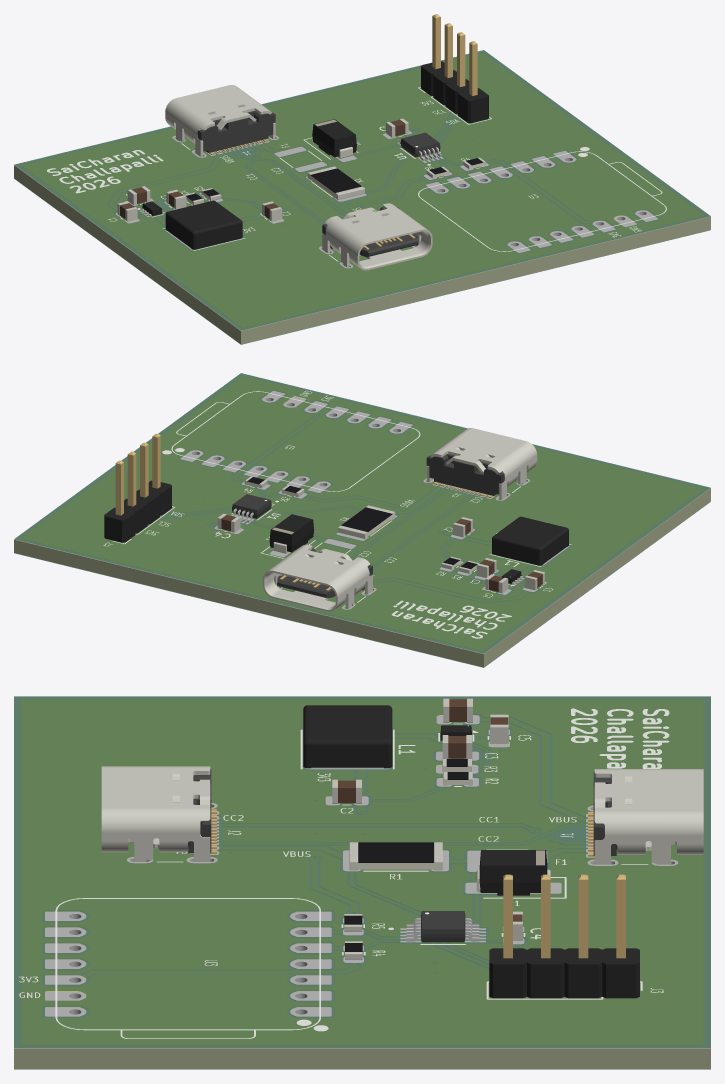
Rendered from pcb.glb.
3 views of the same model, one above another, from view 1: azimuth 30°, elevation 25°; view 2: azimuth 150°, elevation 25°; view 3: azimuth 270°, elevation 25° (orthographic). The views are drawn at different scales.
Parts seen in each view (by area): view 1: =>[0:1:1:38], =>[0:1:1:34], =>[0:1:1:40], =>[0:1:1:5] (×2), =>[0:1:1:31], =>[0:1:1:35], =>[0:1:1:37], =>[0:1:1:13], =>[0:1:1:9], =>[0:1:1:33], =>[0:1:1:39], Body; view 2: =>[0:1:1:38], =>[0:1:1:34], =>[0:1:1:40], =>[0:1:1:5] (×2), =>[0:1:1:31], =>[0:1:1:35], =>[0:1:1:37], =>[0:1:1:13], =>[0:1:1:9], =>[0:1:1:33], =>[0:1:1:39], Body; view 3: =>[0:1:1:38], =>[0:1:1:34], =>[0:1:1:40], =>[0:1:1:5] (×2), =>[0:1:1:31], =>[0:1:1:35], =>[0:1:1:37], =>[0:1:1:13], =>[0:1:1:9], =>[0:1:1:33], =>[0:1:1:7] (×3), Body (+1 smaller).
Boxes of the visible parts, x1=… form: =>[0:1:1:38]: x1=14, y1=50, x2=710, y2=330; =>[0:1:1:34]: x1=22, y1=53, x2=703, y2=327; =>[0:1:1:40]: x1=14, y1=51, x2=710, y2=344; =>[0:1:1:5] (×2): x1=165, y1=85, x2=432, y2=270; =>[0:1:1:31]: x1=421, y1=14, x2=488, y2=123; =>[0:1:1:35]: x1=116, y1=130, x2=657, y2=268; =>[0:1:1:37]: x1=47, y1=87, x2=666, y2=261; =>[0:1:1:13]: x1=165, y1=200, x2=242, y2=249; =>[0:1:1:9]: x1=312, y1=119, x2=356, y2=158; =>[0:1:1:33]: x1=307, y1=166, x2=364, y2=199; =>[0:1:1:39]: x1=14, y1=178, x2=710, y2=344; Body: x1=400, y1=132, x2=440, y2=157; =>[0:1:1:38]: x1=14, y1=373, x2=710, y2=653; =>[0:1:1:34]: x1=21, y1=376, x2=702, y2=650; =>[0:1:1:40]: x1=14, y1=374, x2=710, y2=667; =>[0:1:1:5] (×2): x1=262, y1=428, x2=537, y2=611; =>[0:1:1:31]: x1=104, y1=433, x2=171, y2=542; =>[0:1:1:35]: x1=180, y1=391, x2=569, y2=609; =>[0:1:1:37]: x1=103, y1=390, x2=571, y2=638; =>[0:1:1:13]: x1=492, y1=516, x2=568, y2=565; =>[0:1:1:9]: x1=269, y1=514, x2=314, y2=553; =>[0:1:1:33]: x1=338, y1=505, x2=395, y2=538; =>[0:1:1:39]: x1=14, y1=501, x2=710, y2=667; Body: x1=232, y1=494, x2=271, y2=518; =>[0:1:1:38]: x1=14, y1=696, x2=710, y2=1048; =>[0:1:1:34]: x1=22, y1=700, x2=702, y2=1044; =>[0:1:1:40]: x1=14, y1=697, x2=710, y2=1068; =>[0:1:1:5] (×2): x1=101, y1=766, x2=703, y2=864; =>[0:1:1:31]: x1=489, y1=874, x2=639, y2=998; =>[0:1:1:35]: x1=45, y1=715, x2=678, y2=1016; =>[0:1:1:37]: x1=19, y1=708, x2=669, y2=1038; =>[0:1:1:13]: x1=303, y1=705, x2=392, y2=768; =>[0:1:1:9]: x1=476, y1=850, x2=550, y2=895; =>[0:1:1:33]: x1=349, y1=842, x2=442, y2=870; =>[0:1:1:7] (×3): x1=332, y1=698, x2=472, y2=803; Body: x1=421, y1=911, x2=465, y2=942.
Size of the model in its own units: 0.0561 by 0.0115 by 0.047.
